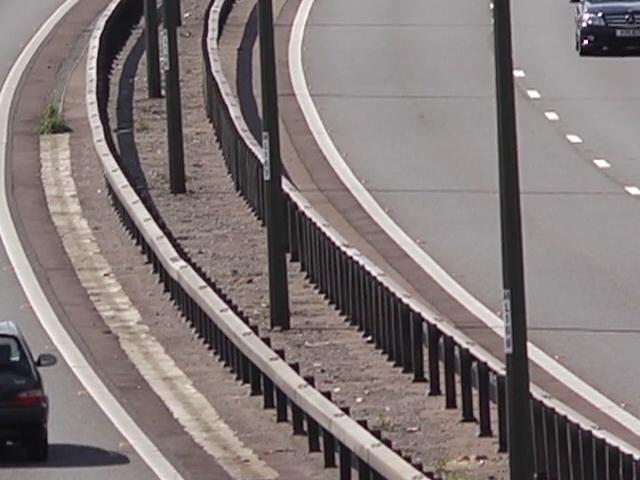car: (0, 323, 53, 466), (574, 0, 640, 53)
